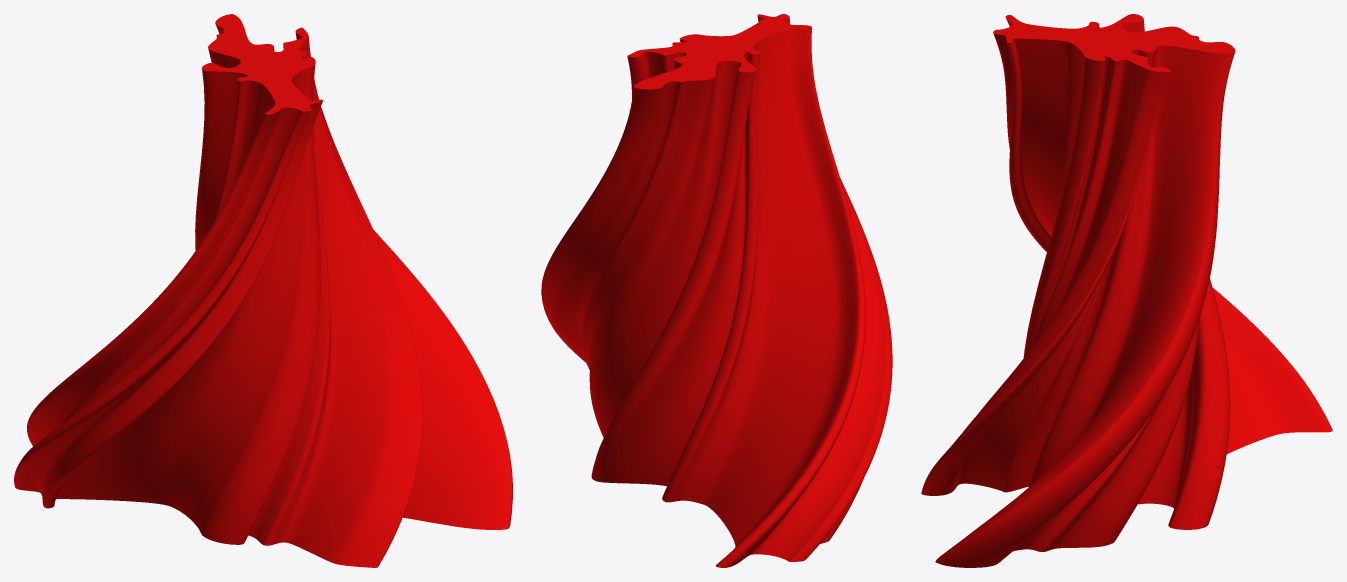
Rendered from tester.glb.
The picture shows the model from 3 angles, left to right: view 1: azimuth 30°, elevation 25°; view 2: azimuth 150°, elevation 25°; view 3: azimuth 270°, elevation 25°; orthographic projection. The views are drawn at different scales.
Size of the model in its own units: 0.1672 by 0.18 by 0.1508.
